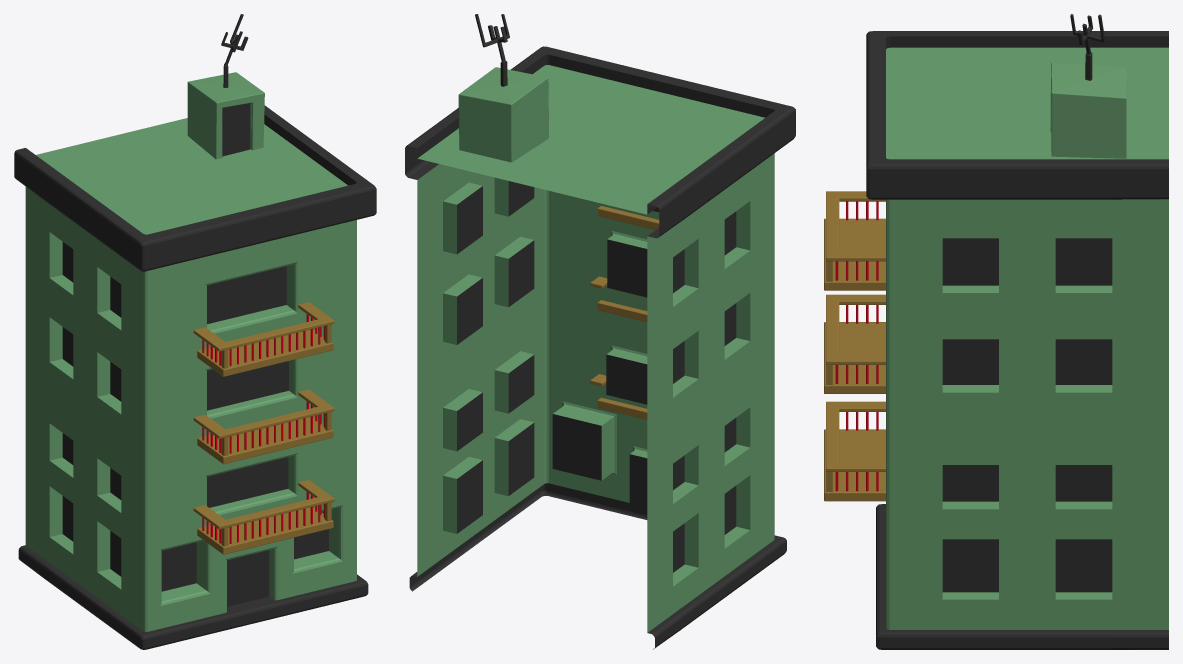
File: bina2.fbx
3 views of the same model, side by side, from view 1: azimuth 30°, elevation 25°; view 2: azimuth 150°, elevation 25°; view 3: azimuth 270°, elevation 25° (orthographic). The views are drawn at different scales.
Visible parts, largest first — view 1: bina2; view 2: bina2; view 3: bina2.
Boxes of the visible parts, bbox=[...] form: bina2: bbox=[14, 14, 376, 649]; bina2: bbox=[405, 14, 795, 649]; bina2: bbox=[824, 14, 1168, 649].
Bounding box in the file's own units: 5604 × 11842 × 5994.
